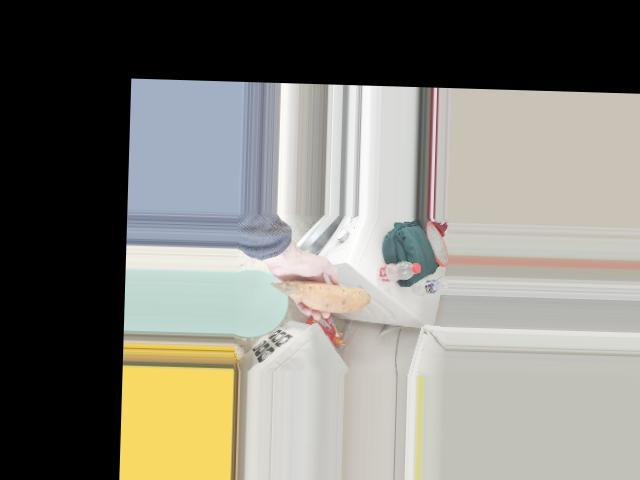sweet_potato: (284, 280, 368, 316)
